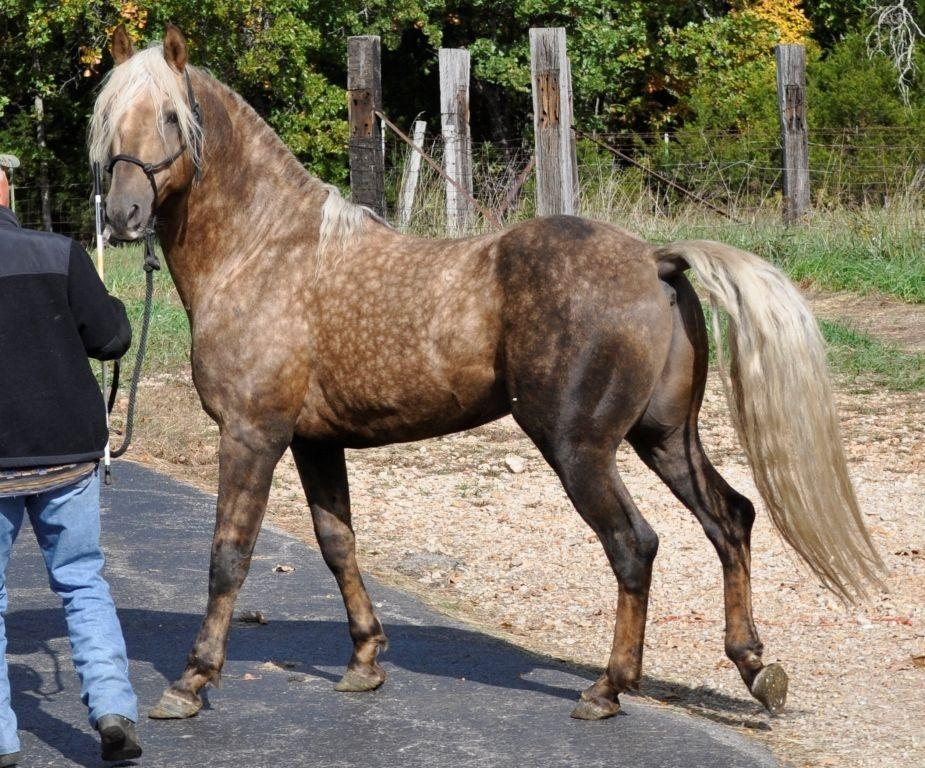horse: (85, 20, 891, 725)
